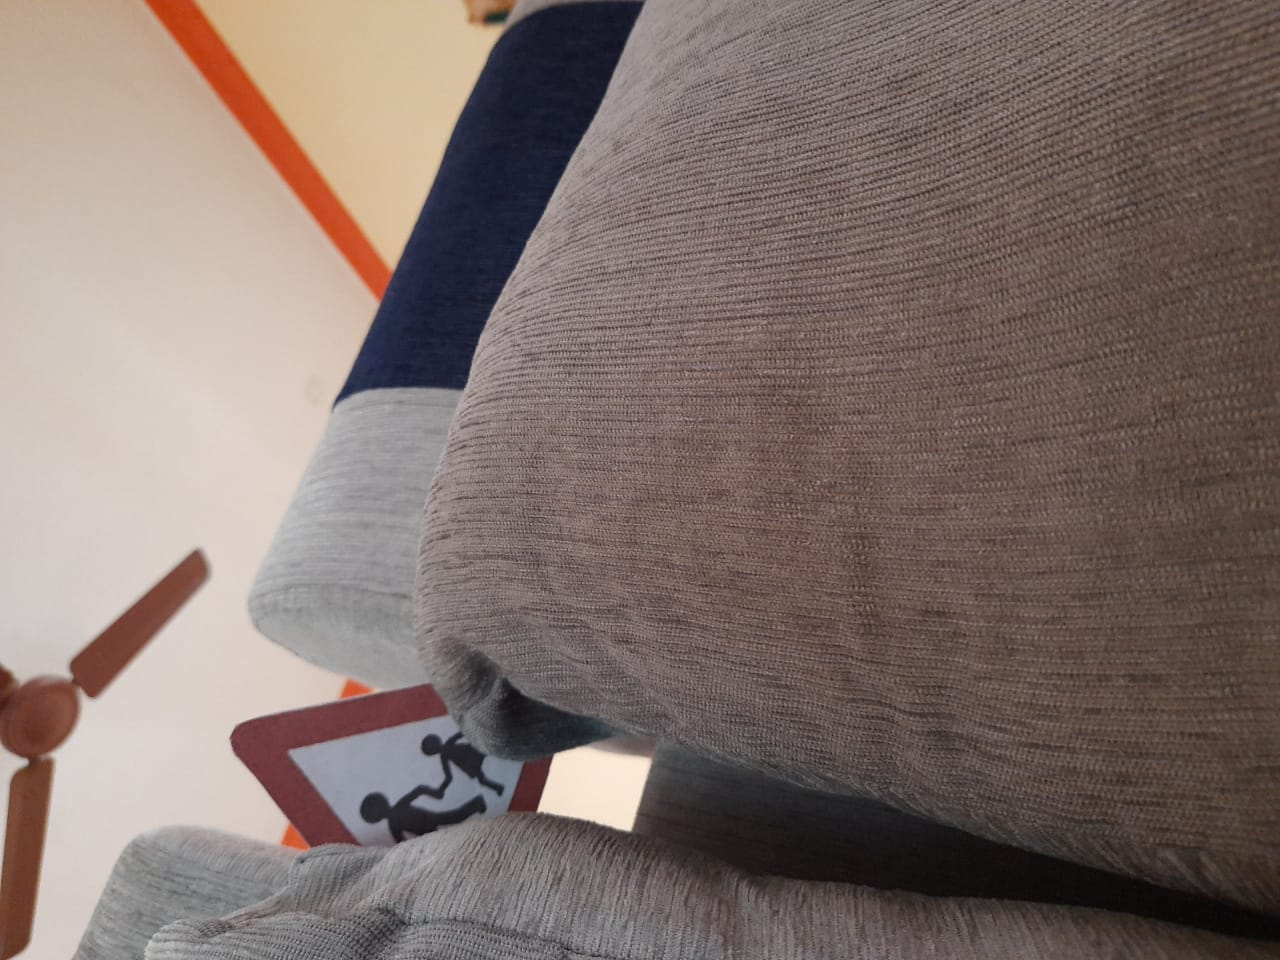SCHOOL ZONE: (222, 636, 561, 887)
